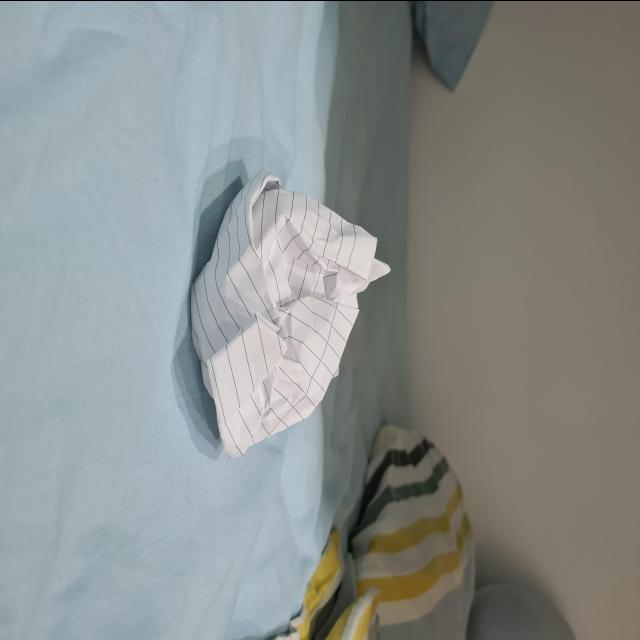kertas: (183, 160, 387, 462)
